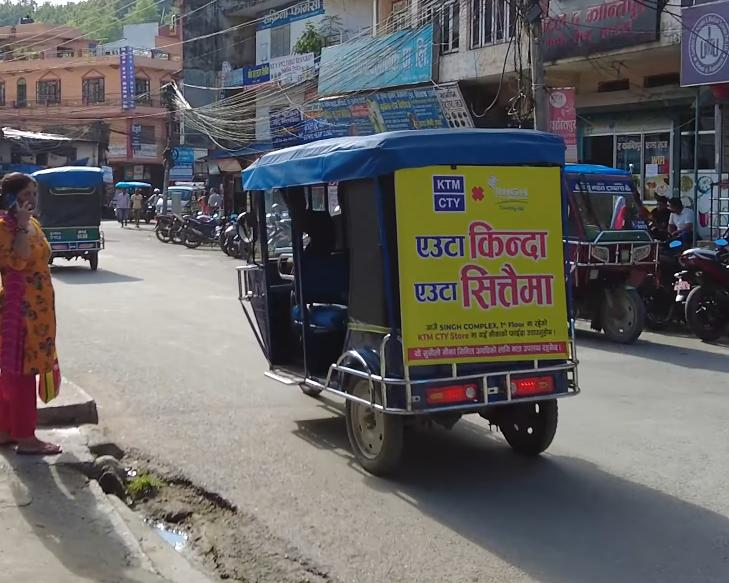e-rickshaw: (230, 121, 577, 485), (563, 158, 663, 351), (27, 163, 107, 276)
